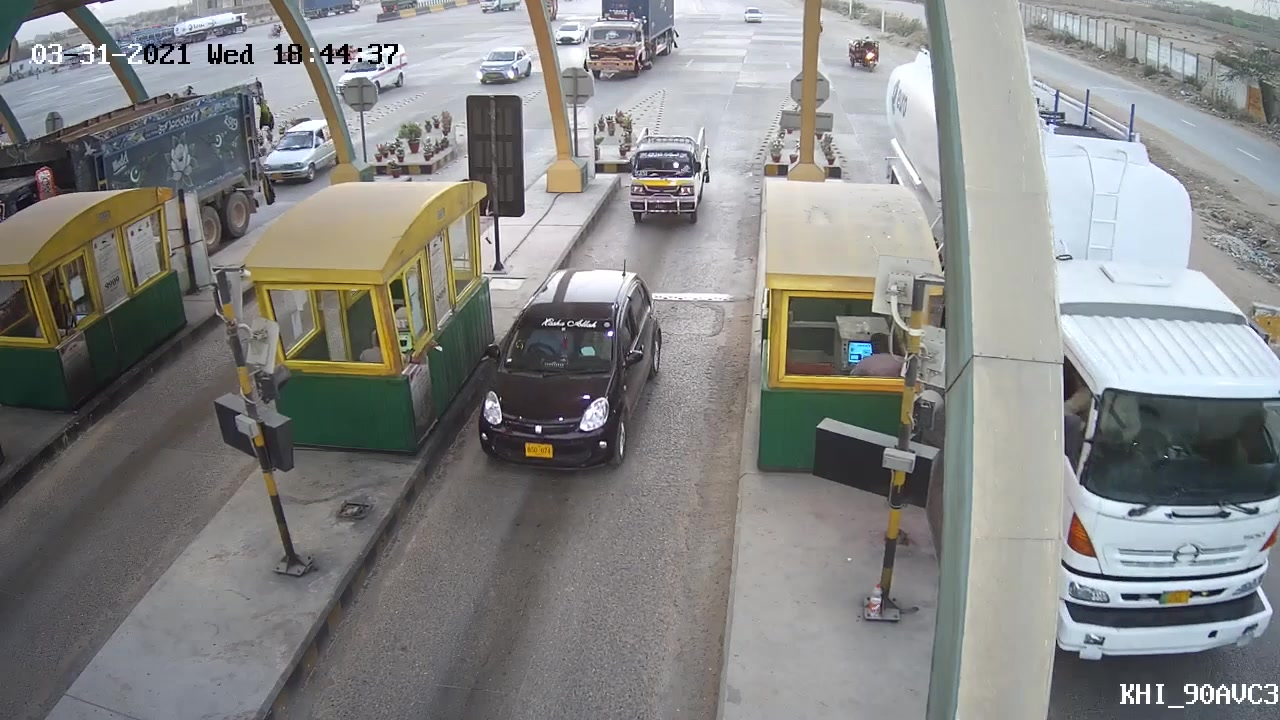F1: (471, 257, 674, 477), (619, 118, 718, 235)
